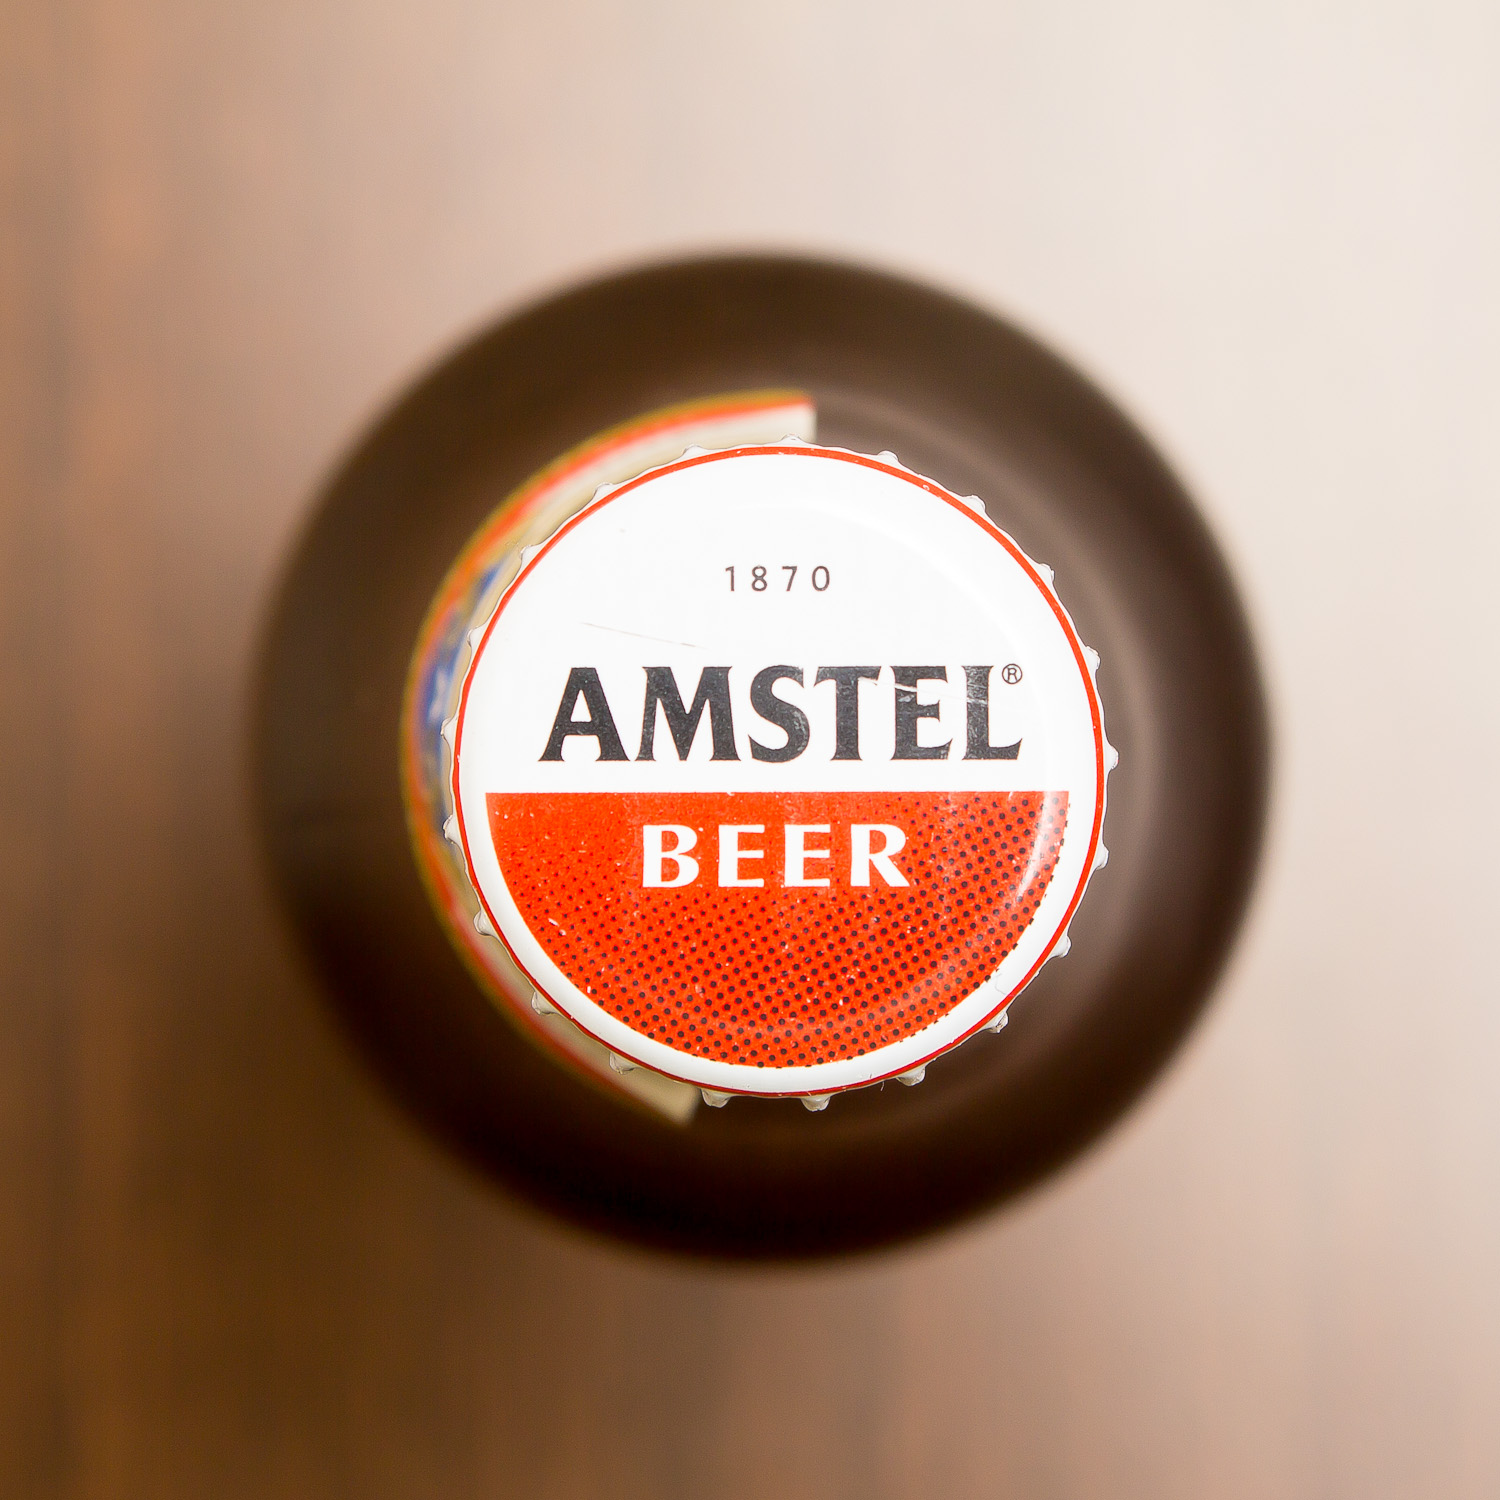amstel: (420, 431, 1124, 1129)
